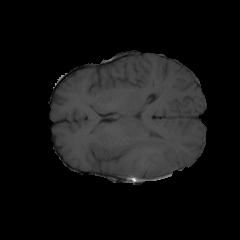glioma: (124, 136, 174, 178)
